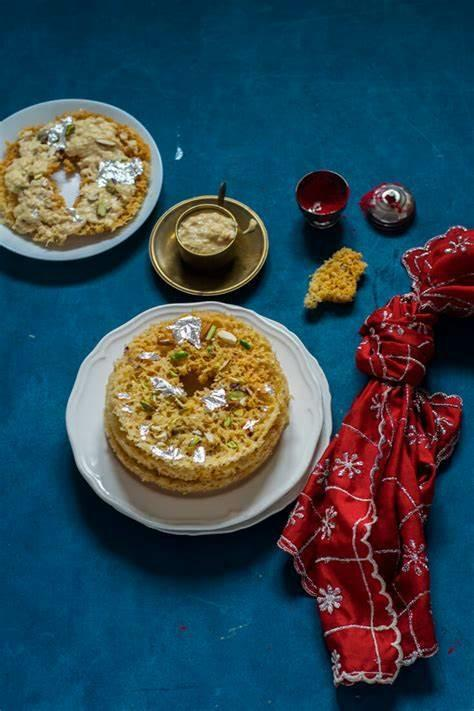Ghevar: (104, 308, 291, 494), (0, 108, 151, 247)
